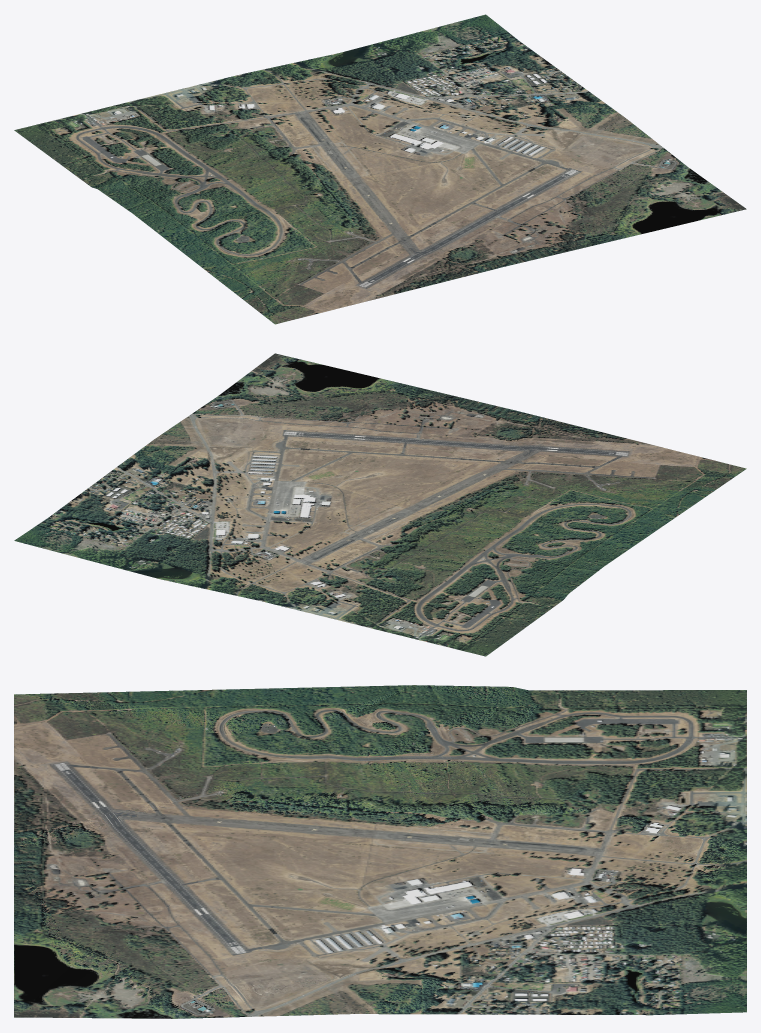
The model's file is kpow.glb.
The picture shows the model from 3 angles, top to bottom: view 1: azimuth 30°, elevation 25°; view 2: azimuth 150°, elevation 25°; view 3: azimuth 270°, elevation 25°; orthographic projection. The views are drawn at different scales.
Visible parts, largest first — view 1: Node; view 2: Node; view 3: Node.
Boxes of the visible parts, bbox=[...] form: Node: bbox=[14, 14, 746, 324]; Node: bbox=[14, 353, 746, 656]; Node: bbox=[14, 685, 746, 1018].
Bounding box in the file's own units: 2400 × 37.67 × 2300.
Materials: 1 (1 with a texture image).
